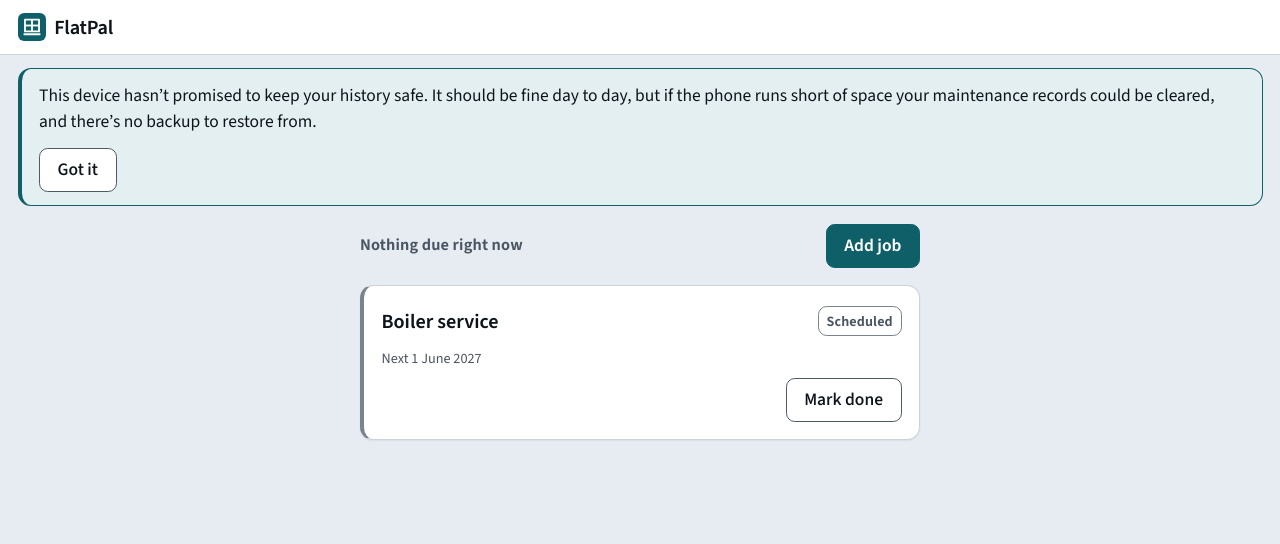
Test case: the undo offer expires › is there the moment a job is marked done
Expected: the button "Boiler service" is shown, 382,299 -> 499,343
Click the button "Mark done" at (844, 400), box 786,378 -> 902,422
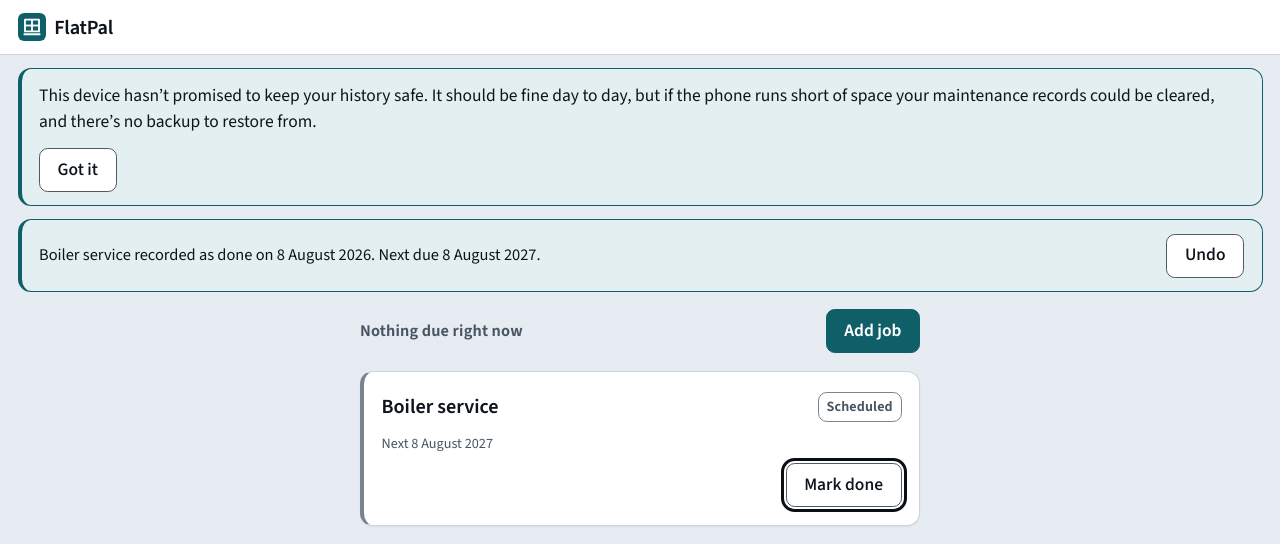
Expected: the button "Undo" is shown, 1166,234 -> 1244,278
